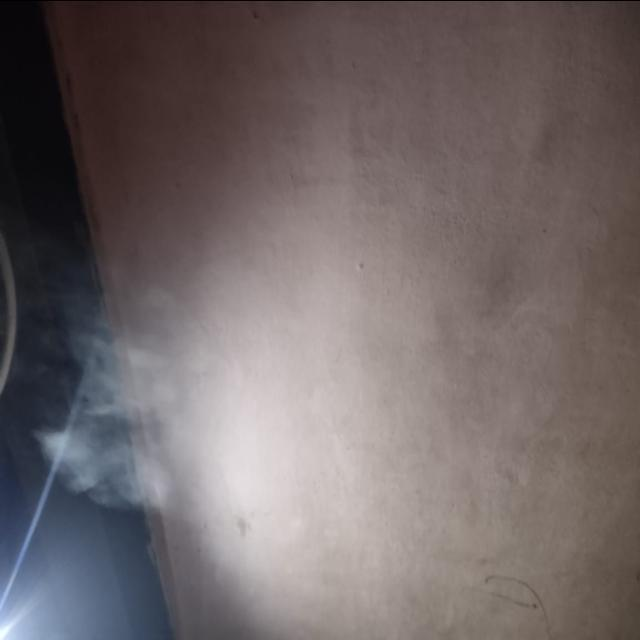smoke: (50, 321, 217, 528)
